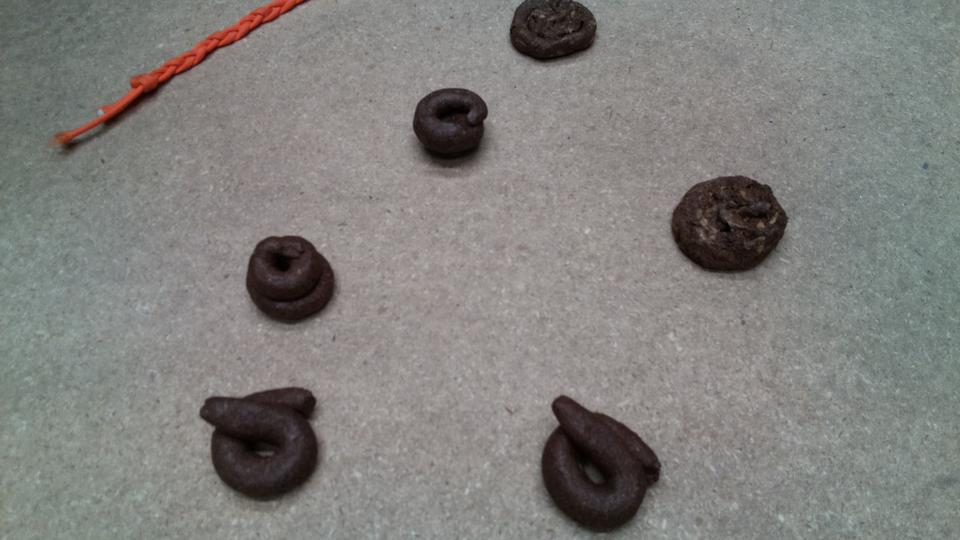poop: (535, 393, 665, 535), (196, 384, 324, 501), (665, 170, 793, 275), (242, 233, 338, 327), (411, 86, 492, 169)
rope: (46, 1, 309, 155)
